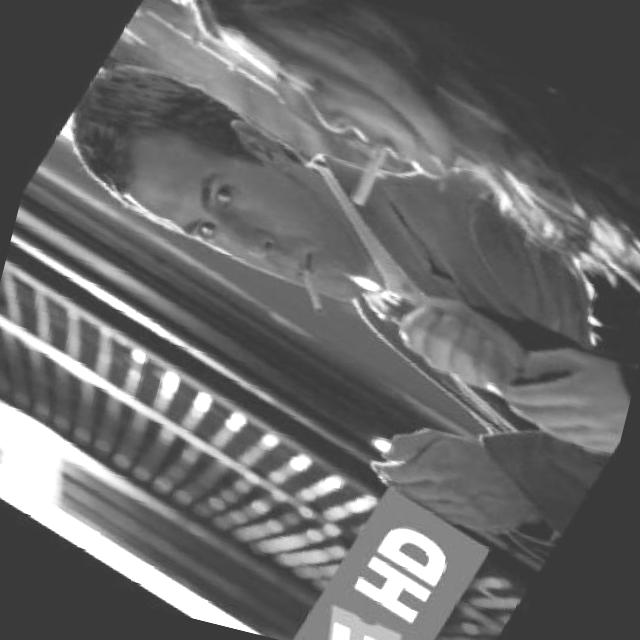cigarette: (340, 132, 405, 217), (281, 261, 345, 319)
